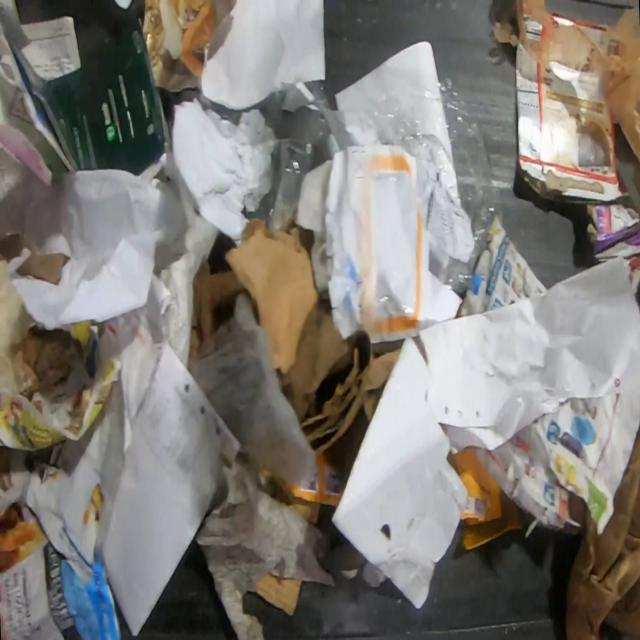cardboard: (186, 217, 402, 453), (331, 336, 468, 612), (34, 17, 170, 179), (514, 39, 630, 206), (562, 415, 640, 640), (585, 204, 640, 298), (550, 11, 609, 46)
soft_plastic: (346, 78, 504, 291), (186, 289, 321, 495), (516, 0, 640, 161), (247, 80, 342, 233)
